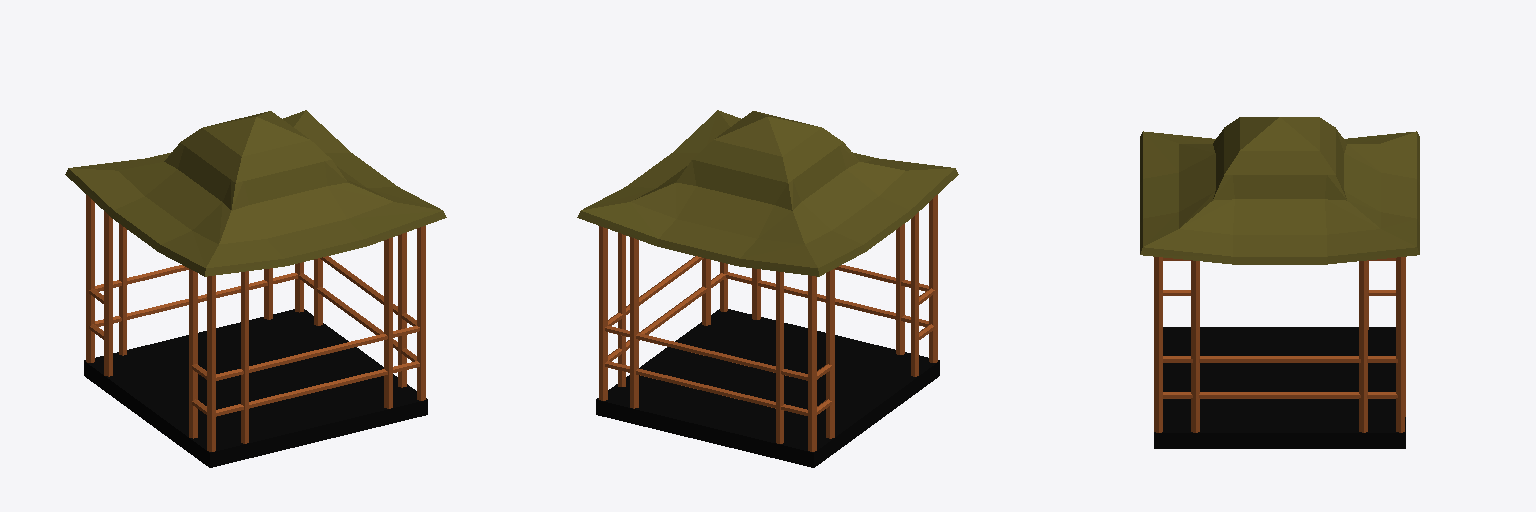
Rendered from Hut_E.obj.
3 renders of one model, left to right at view 1: azimuth 30°, elevation 25°; view 2: azimuth 150°, elevation 25°; view 3: azimuth 270°, elevation 25°, orthographic.
Parts seen in each view (by area): view 1: Hut_E; view 2: Hut_E; view 3: Hut_E.
Part boxes in pixels (bbox=[...]): Hut_E: bbox=[65, 110, 446, 467]; Hut_E: bbox=[577, 110, 958, 467]; Hut_E: bbox=[1140, 117, 1419, 448].
Bounding box in the file's own units: 18.33 × 20.15 × 18.33.